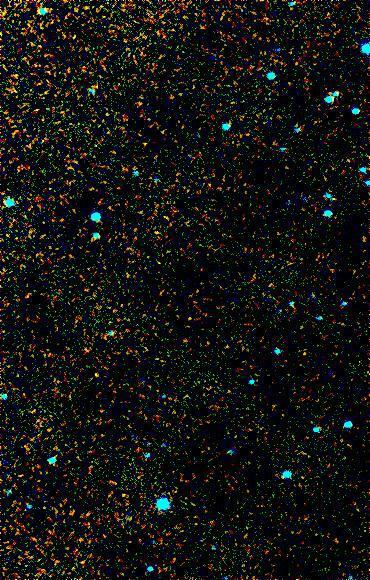star: (80, 360, 110, 390)
